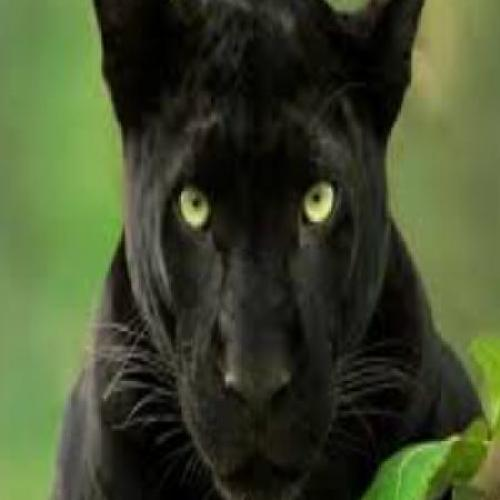panther-endangered: (76, 0, 481, 486)
